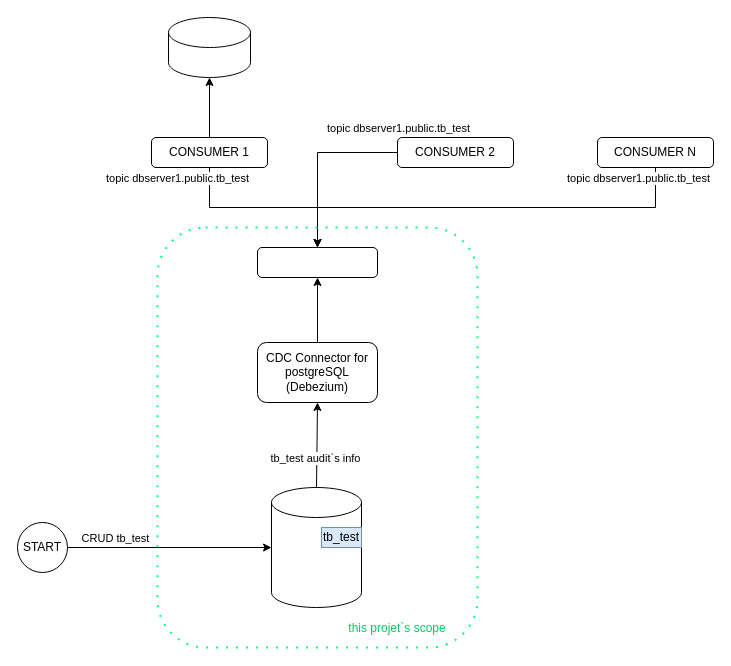
The diagram is 731 pixels wide and 666 high, and some of its shapes have lost their labels. The box of each missing label's shape, as (x1, y1, x2, y2) in pixels:
KAFKA: (256, 246, 378, 278)
otherdb: (168, 16, 250, 78)
testdb: (270, 486, 362, 608)
